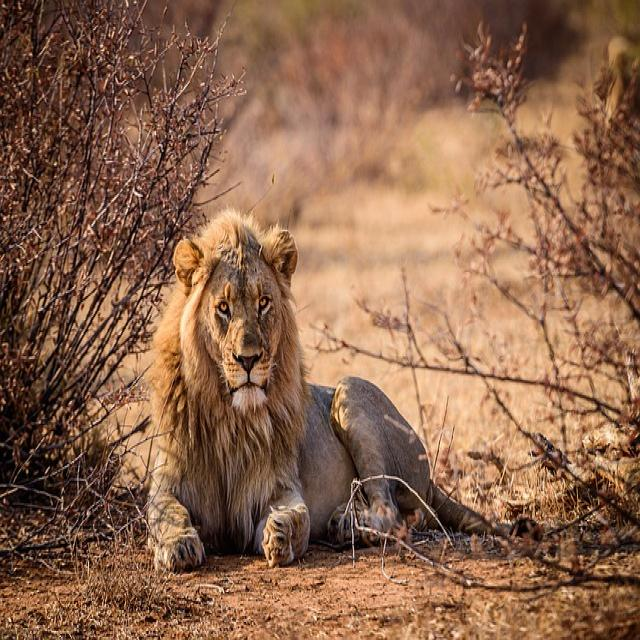Carnivorous: (146, 209, 448, 574)
